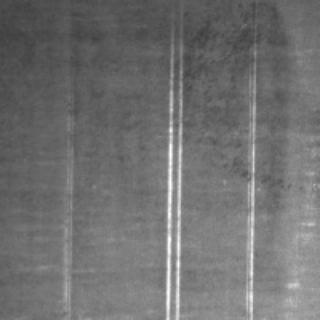scratches: (160, 15, 184, 317), (240, 24, 258, 316), (58, 90, 74, 314)
